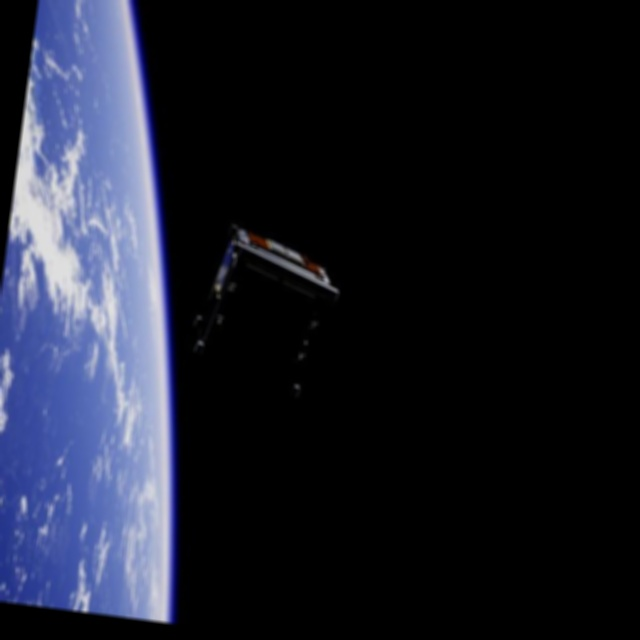satellite: (184, 216, 350, 403)
